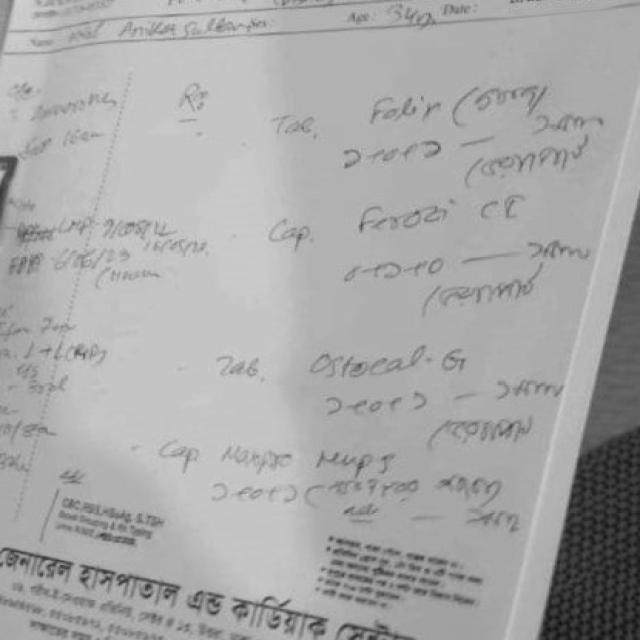medicine: (336, 187, 524, 247), (287, 341, 474, 391), (214, 432, 401, 478), (354, 80, 455, 136)
